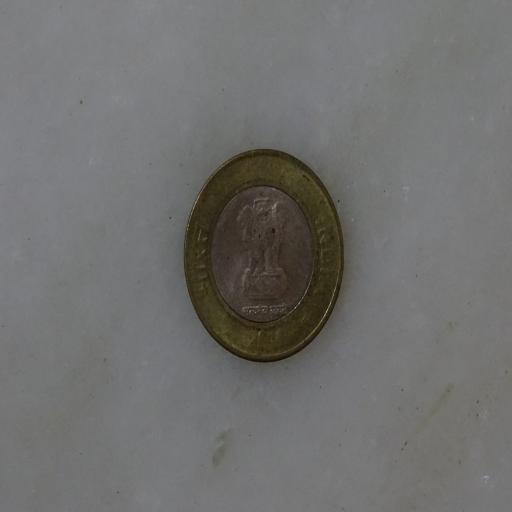rupee10: (182, 149, 345, 364)
